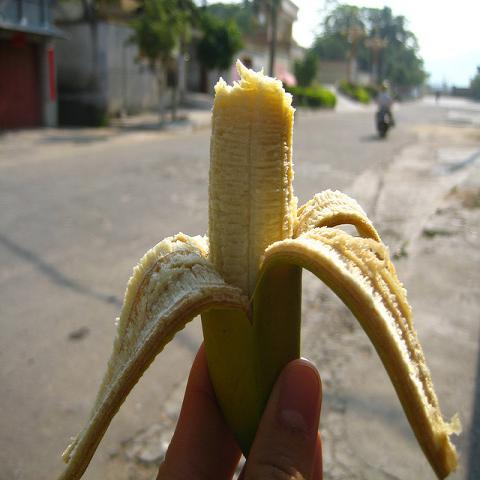motorcycle: (377, 109, 391, 139)
